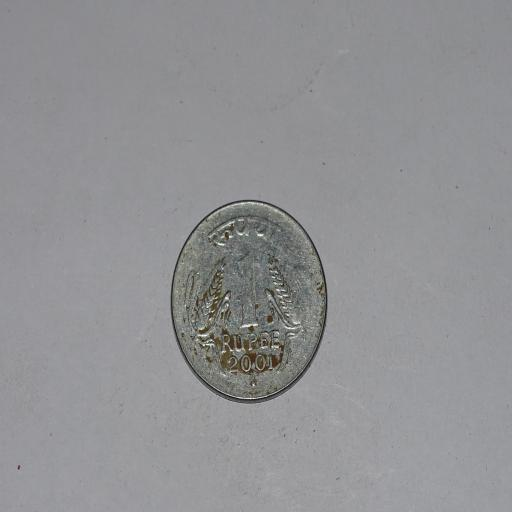rupee1: (163, 197, 329, 410)
